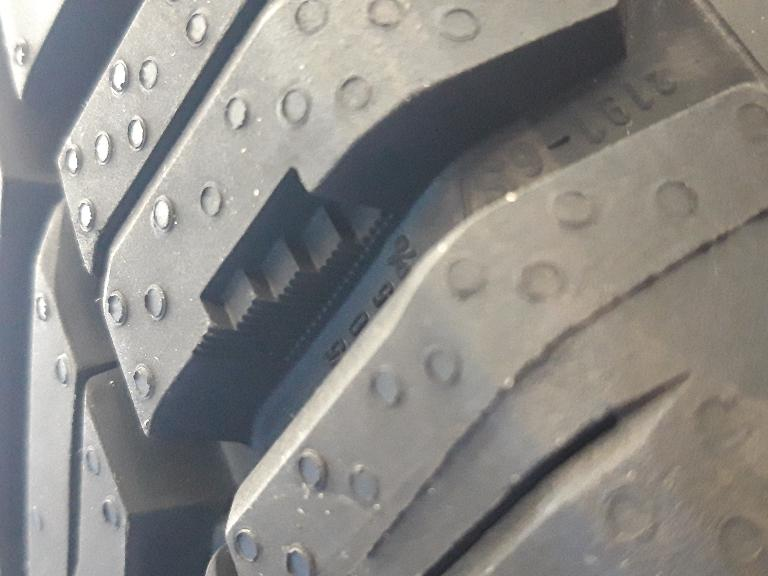temoin:100: (179, 160, 410, 374)
